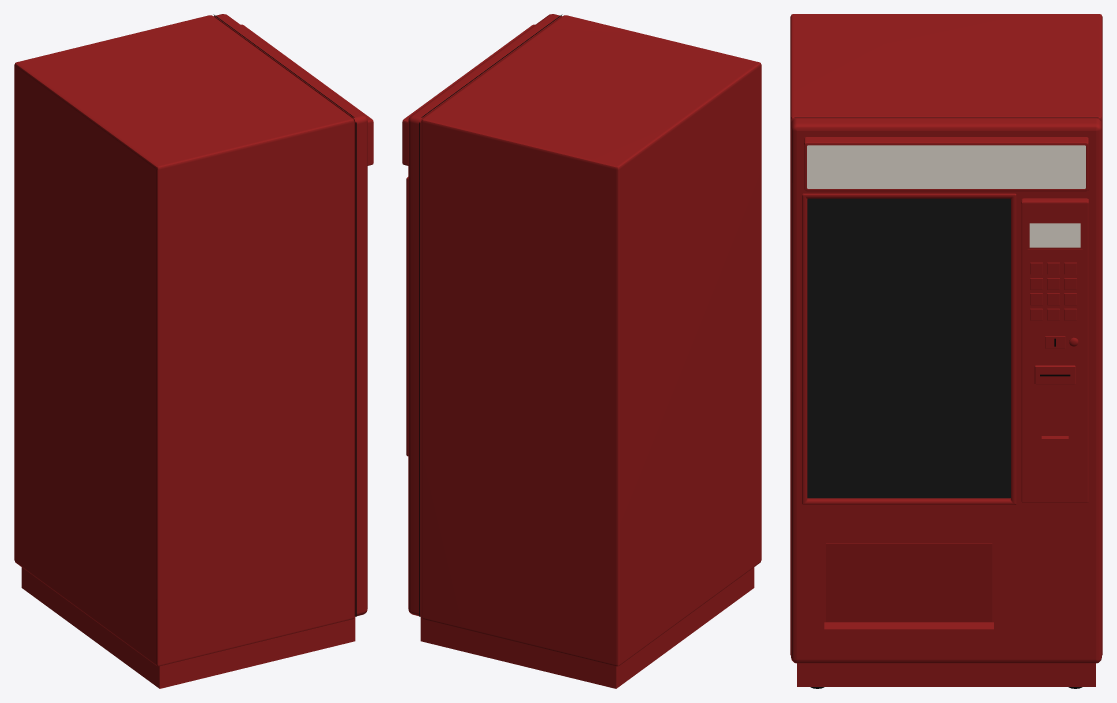
The model's file is item_vending.glb.
3 views of the same model, side by side, from view 1: azimuth 30°, elevation 25°; view 2: azimuth 150°, elevation 25°; view 3: azimuth 270°, elevation 25° (orthographic). The views are drawn at different scales.
Visible parts, largest first — view 1: automat; view 2: automat; view 3: automat.
Part boxes in pixels (x1,y1,x2,y2): automat: (14,14,373,688); automat: (402,14,761,688); automat: (790,14,1102,688).
Size of the model in its own units: 0.82 by 1.86 by 0.9208.
